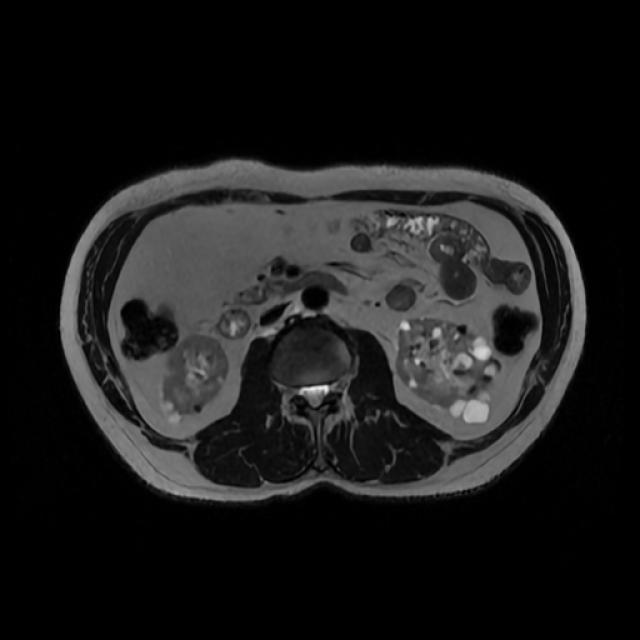sag: (161, 337, 227, 424)
sol: (398, 320, 499, 420)
